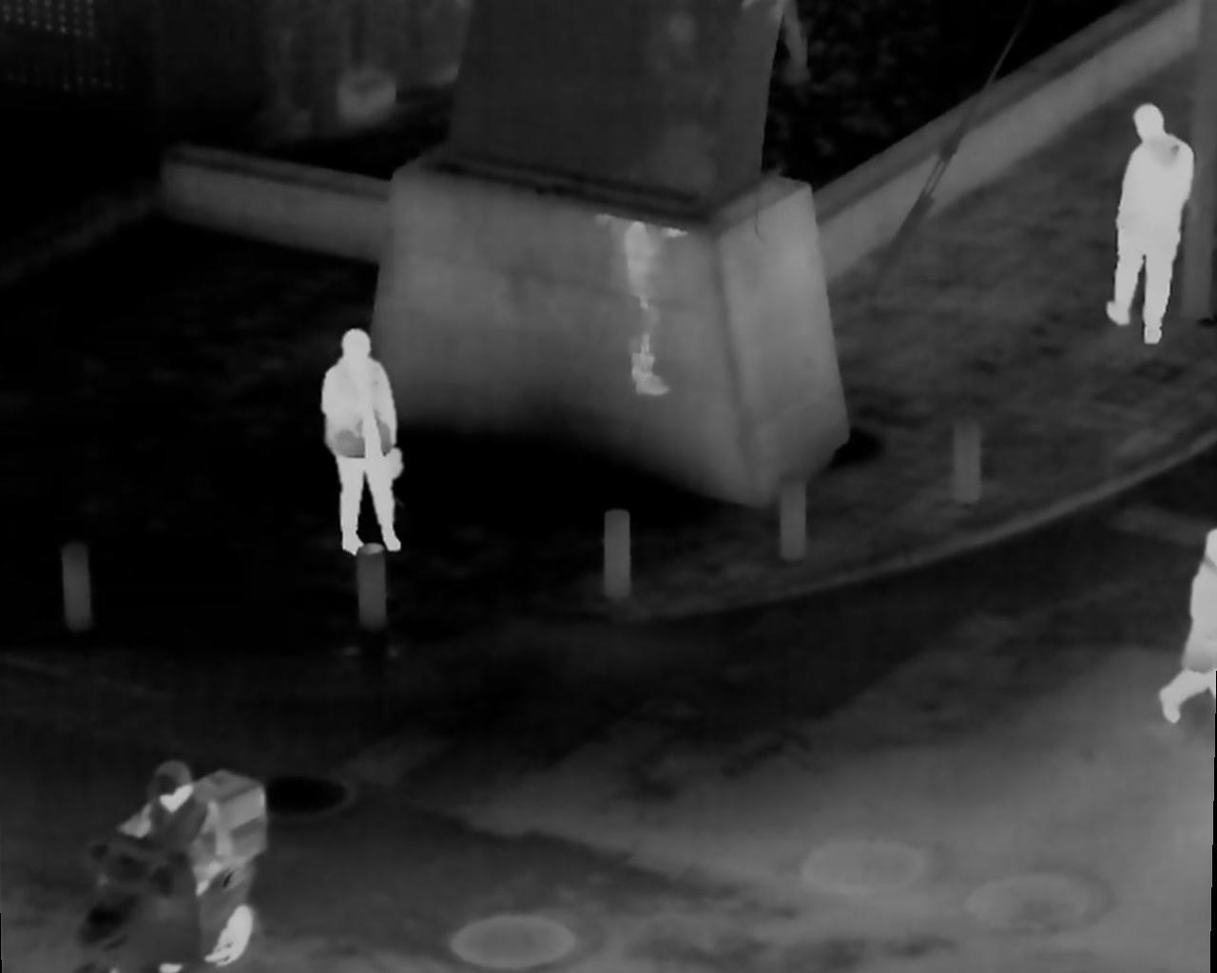person: (116, 758, 252, 966), (320, 328, 407, 554), (1106, 104, 1190, 338), (1153, 533, 1217, 722)
